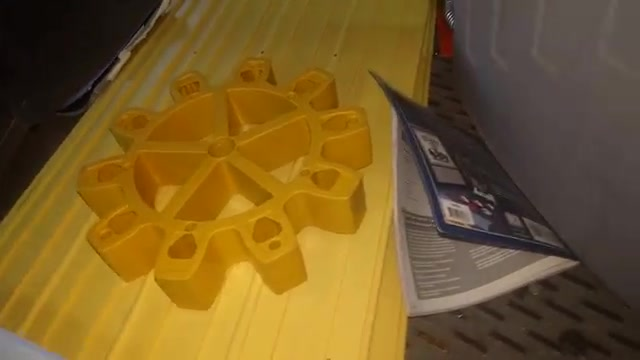gear: (72, 62, 383, 314)
